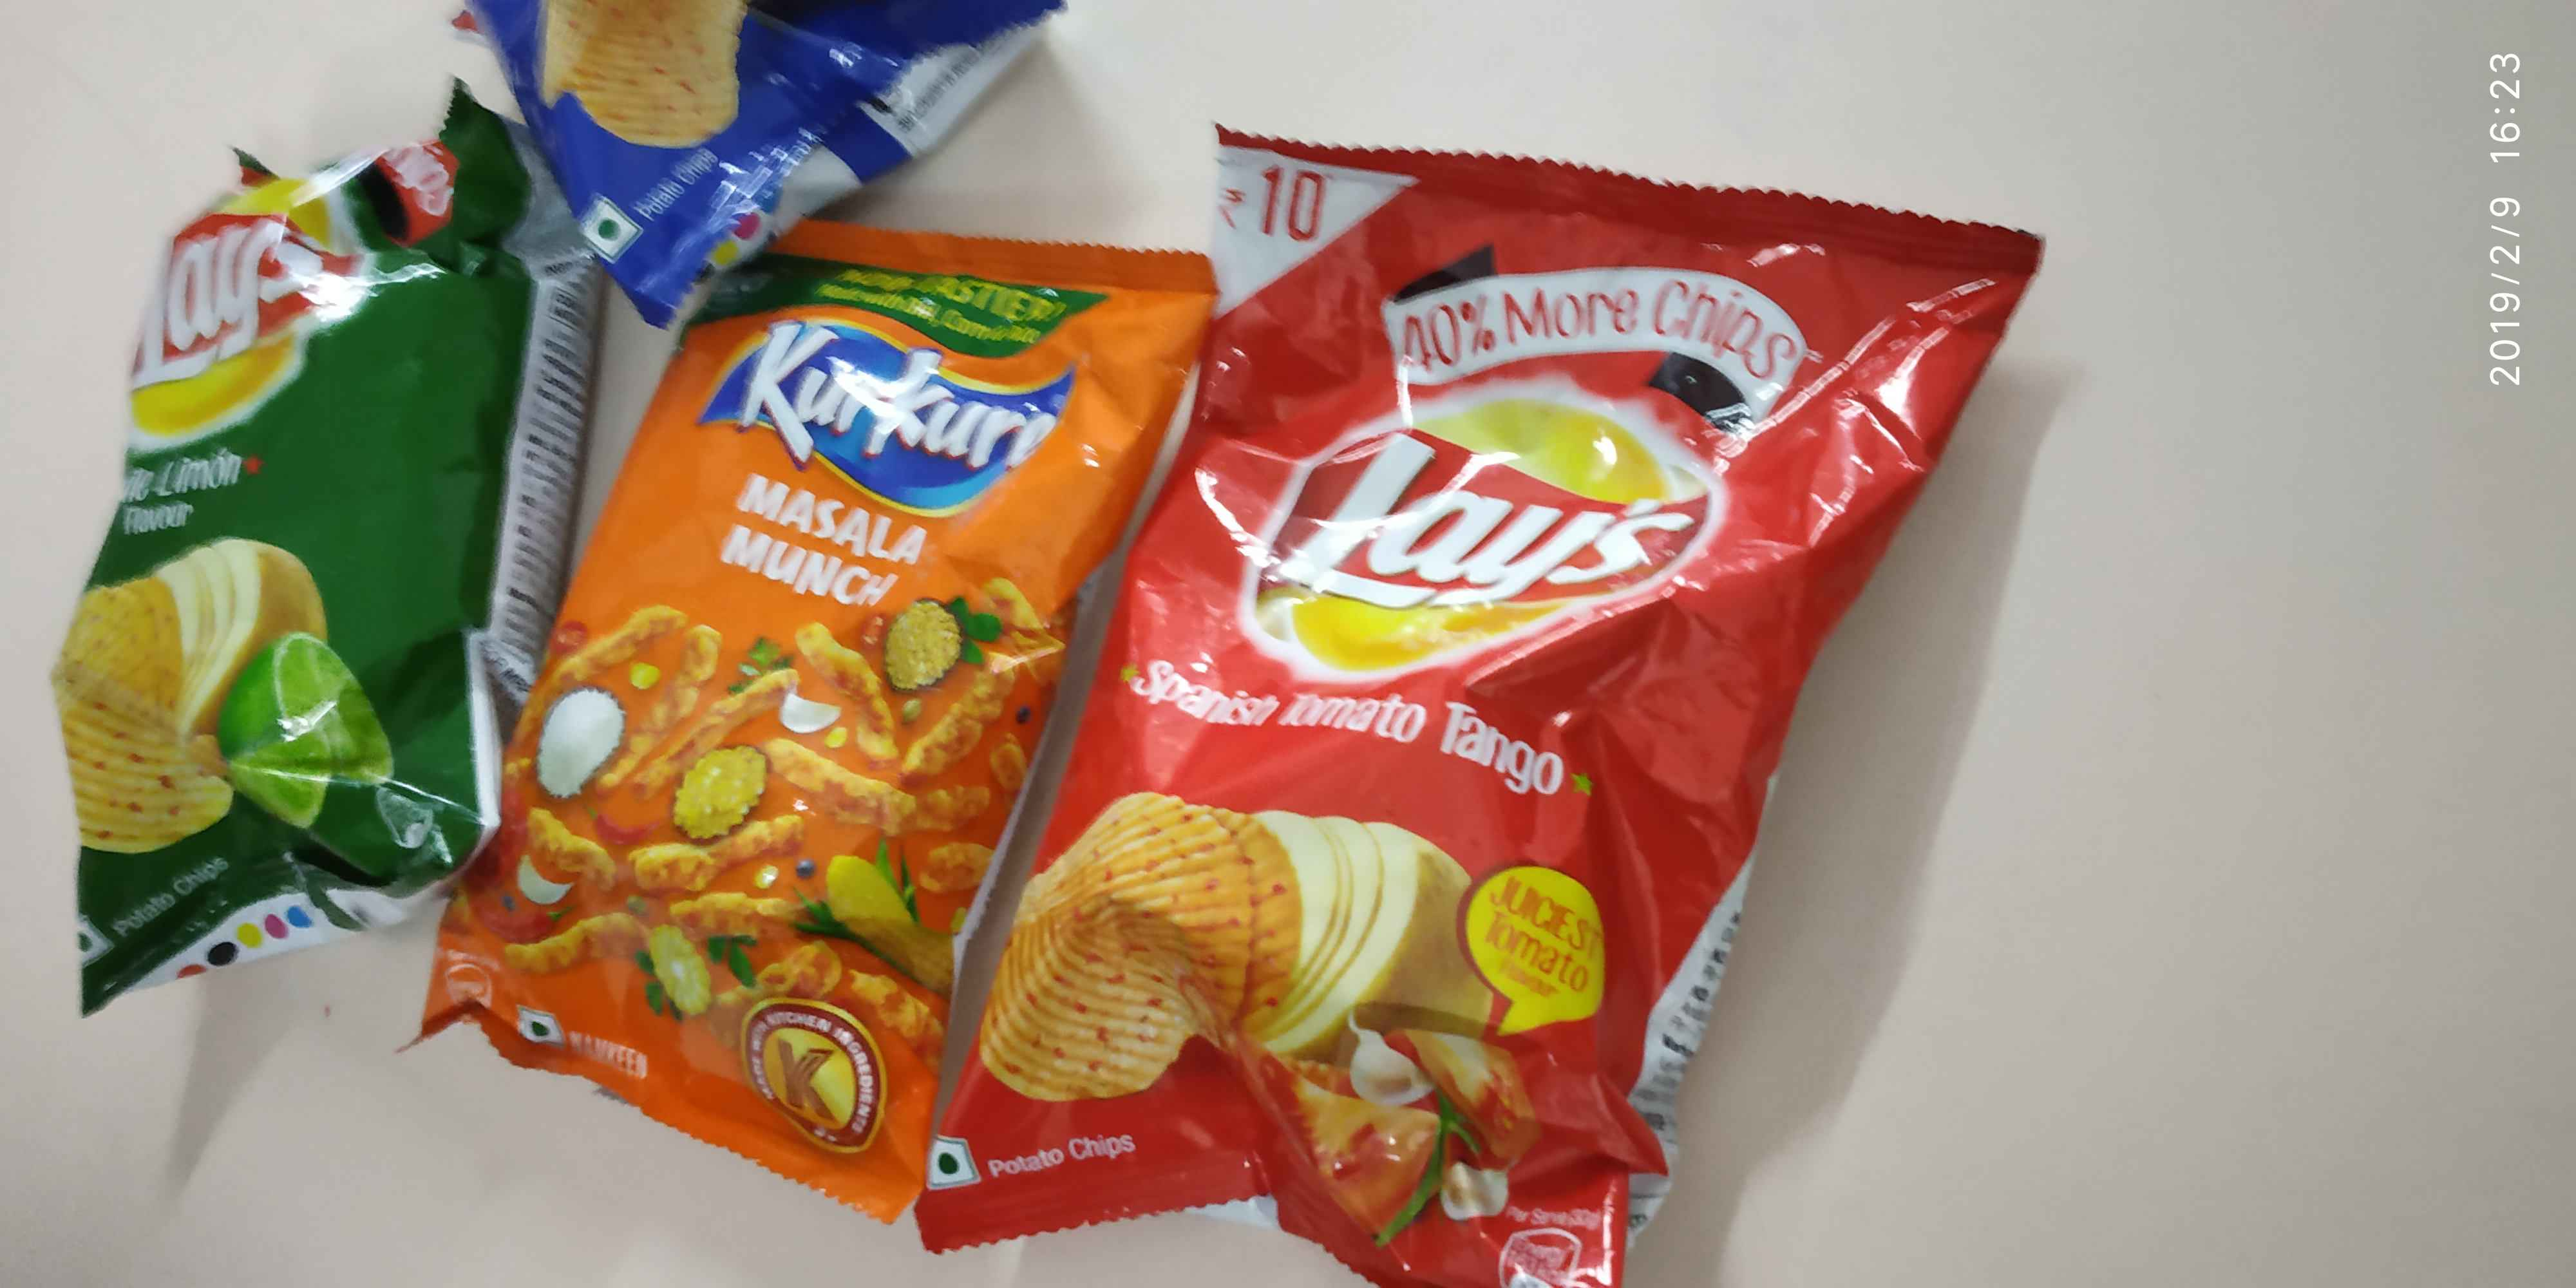Lays: (1232, 376, 1771, 688), (117, 159, 383, 458)
kurkure: (680, 324, 1086, 493)
